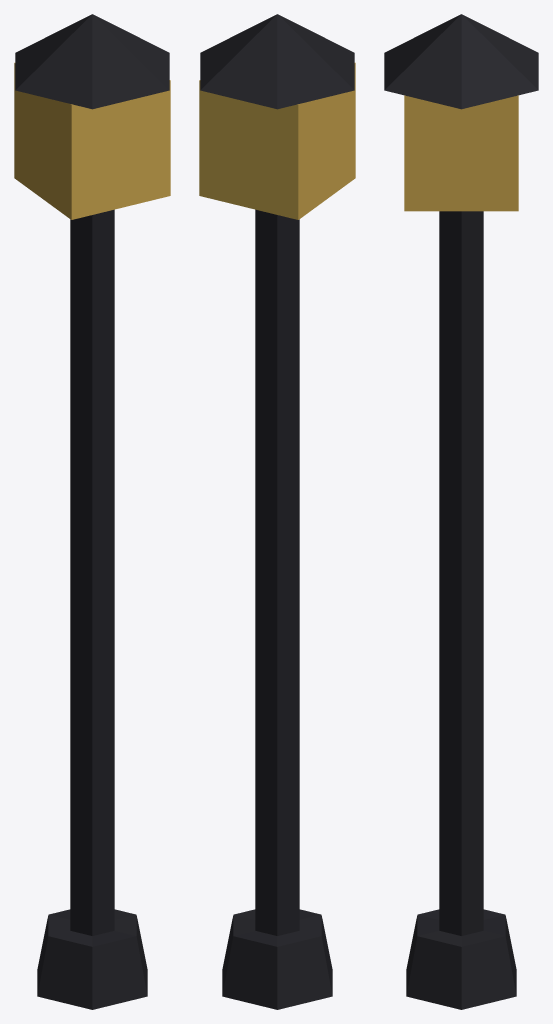
The model's file is p_lamp.glb.
The picture shows the model from 3 angles, left to right: view 1: azimuth 30°, elevation 25°; view 2: azimuth 150°, elevation 25°; view 3: azimuth 270°, elevation 25°; orthographic projection.
Visible parts, largest first — view 1: p_lamp; view 2: p_lamp; view 3: p_lamp.
Boxes of the visible parts, x1,y1,x2,y2 form: p_lamp: (14,14,170,1009); p_lamp: (199,14,355,1009); p_lamp: (384,14,538,1009).
Size of the model in its own units: 0.28 by 1.68 by 0.2425.
